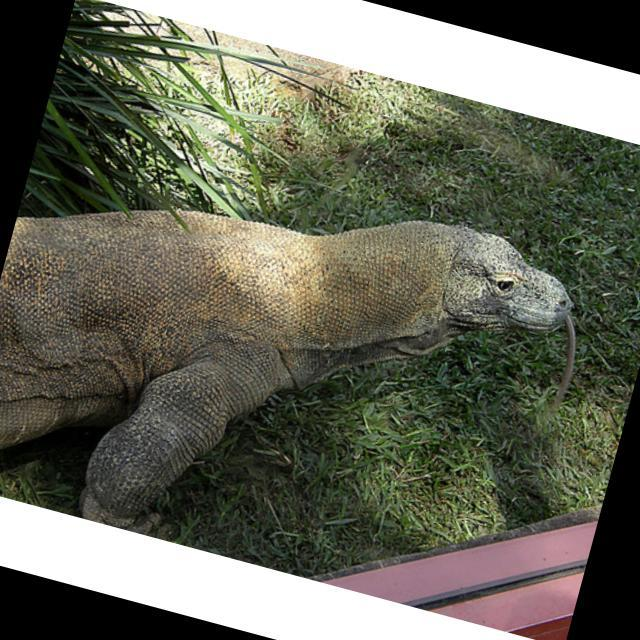KomodoDragon: (0, 110, 603, 628)
